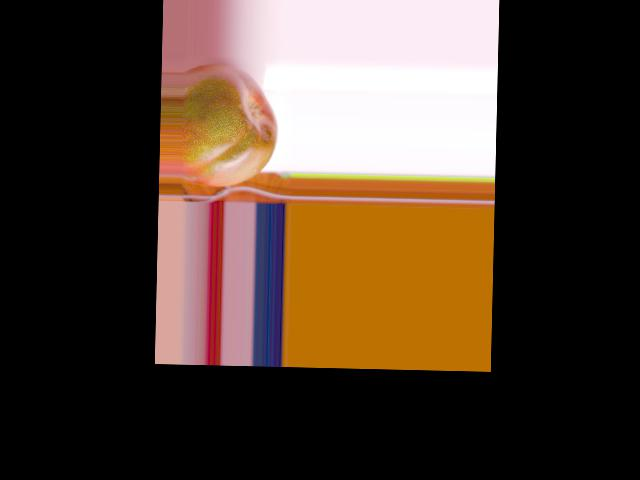tomato: (181, 64, 279, 188)
